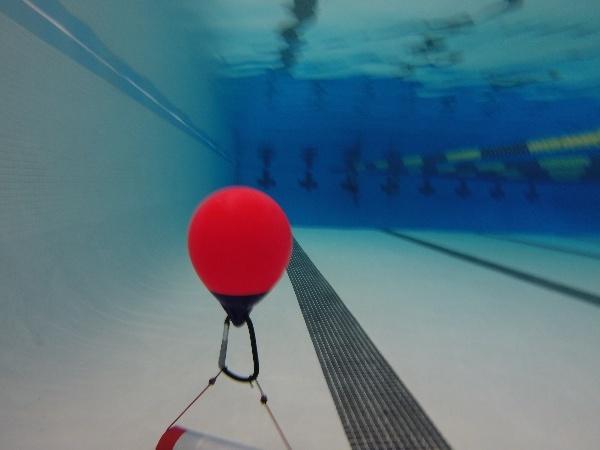buoy_red: (177, 181, 297, 328)
